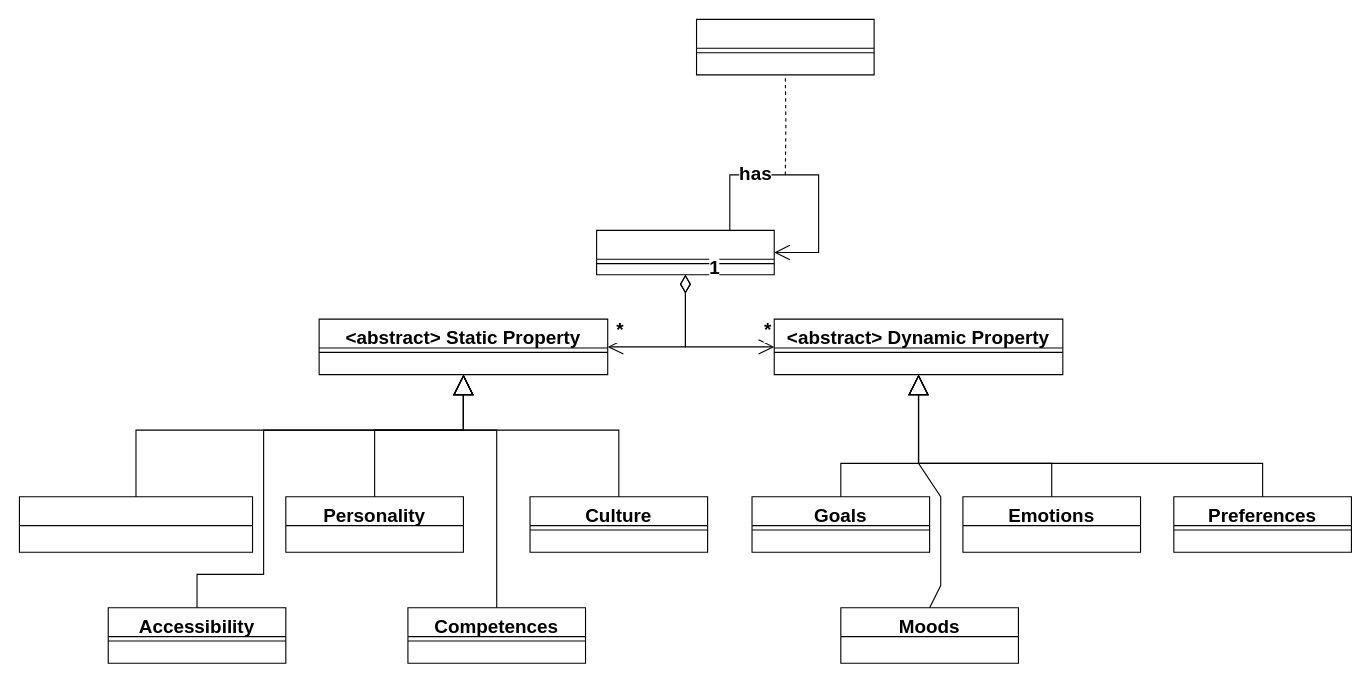
This 1371x683 diagram has some shape labels left out. The shapes that lost their labels are listed below. From the top down, each one's centre as x and y in pixels, then its label:
At pixel 784 46: "Relationship".
At pixel 685 252: "User".
At pixel 135 524: "Demographic Information".
